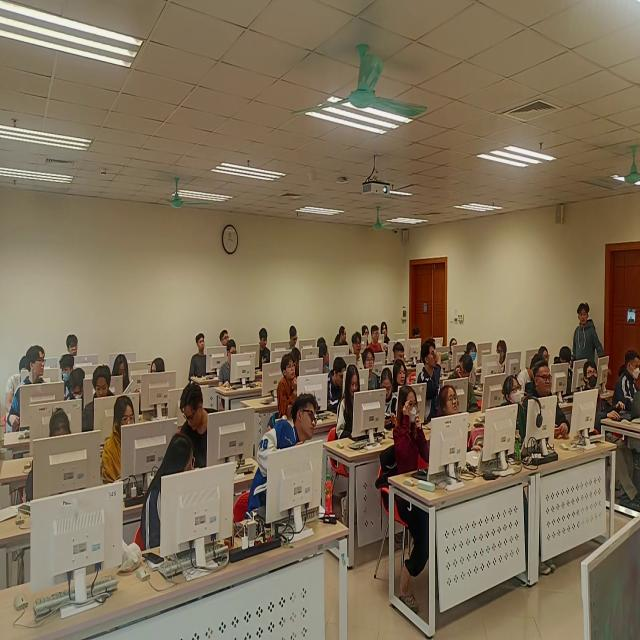raise_hand: (417, 342, 446, 409)
raise_head: (389, 386, 431, 477), (530, 360, 570, 445), (577, 359, 613, 443), (500, 375, 525, 431), (434, 381, 461, 432), (277, 353, 299, 410), (189, 330, 211, 384), (358, 349, 381, 388), (465, 341, 483, 379), (347, 331, 365, 368), (65, 333, 81, 359), (219, 329, 232, 353), (449, 338, 458, 360), (381, 321, 390, 342)
stand: (571, 302, 605, 378)
using_computer: (95, 394, 144, 495), (27, 409, 76, 509), (335, 364, 366, 451), (613, 347, 640, 431), (85, 362, 114, 435), (7, 353, 31, 408), (553, 347, 579, 396), (219, 341, 243, 388), (328, 355, 347, 413), (63, 369, 87, 414), (111, 351, 132, 392), (518, 355, 538, 396), (393, 360, 409, 399), (368, 324, 384, 359), (393, 344, 409, 368), (287, 325, 301, 352), (538, 344, 553, 369), (411, 327, 424, 346), (316, 334, 329, 349), (362, 323, 371, 341)
using_phone: (375, 363, 400, 433), (256, 327, 272, 367)
